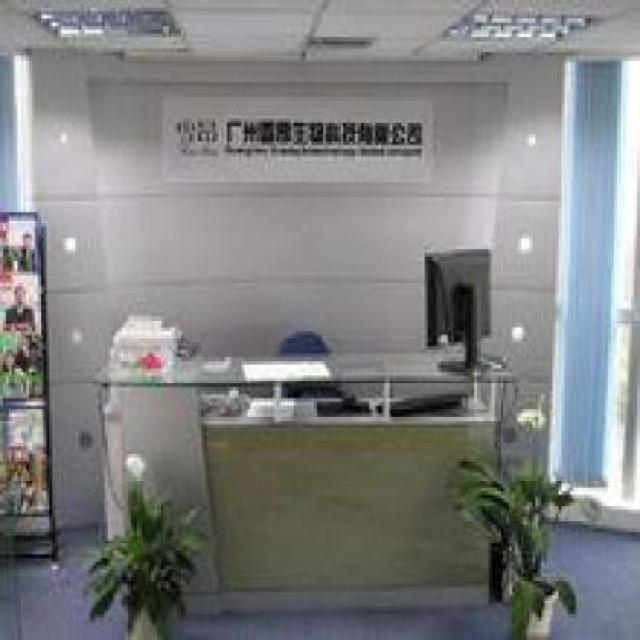frontdesk: (94, 320, 528, 622)
